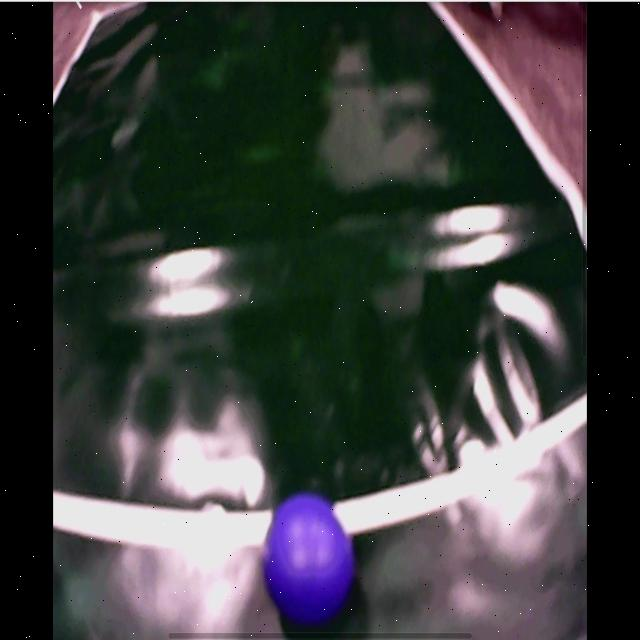ball: (263, 496, 354, 627)
